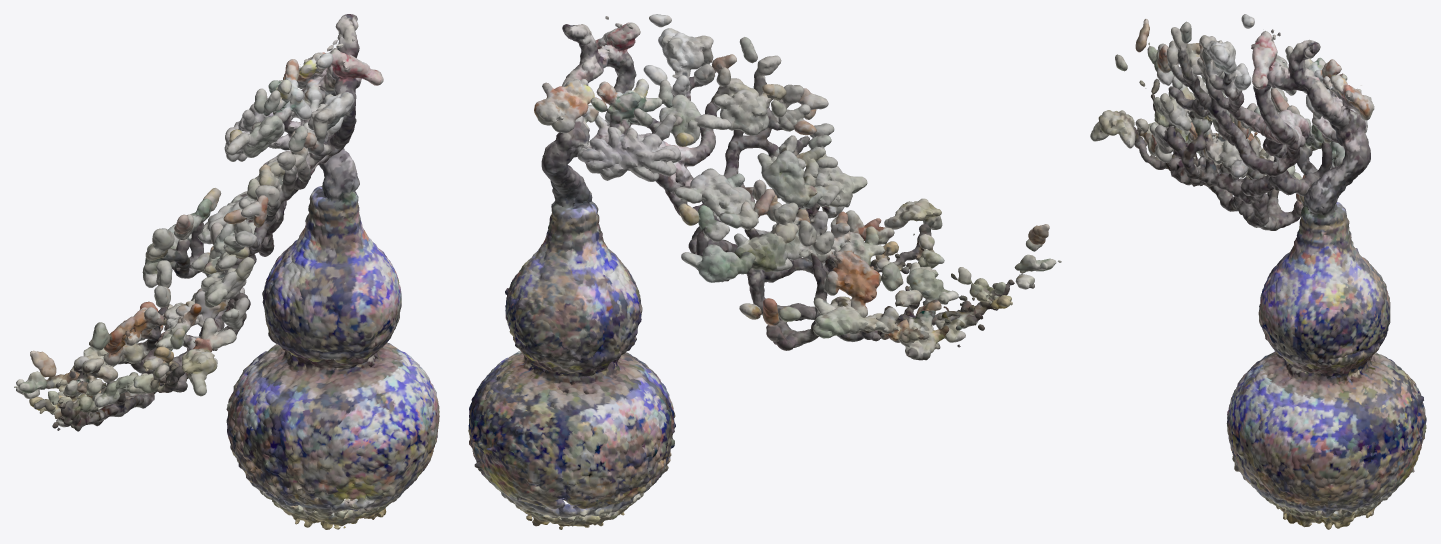
File: ruili1.glb
The picture shows the model from 3 angles, left to right: view 1: azimuth 30°, elevation 25°; view 2: azimuth 150°, elevation 25°; view 3: azimuth 270°, elevation 25°; orthographic projection. The views are drawn at different scales.
Parts seen in each view (by area): view 1: Object_4, Object_7, Object_6, Object_5, Object_8; view 2: Object_7, Object_4, Object_5, Object_6, Object_8; view 3: Object_5, Object_4, Object_7, Object_6, Object_8.
Part boxes in pixels (bbox=[...]): Object_4: bbox=[226, 60, 439, 519]; Object_7: bbox=[14, 49, 432, 512]; Object_6: bbox=[47, 14, 439, 527]; Object_5: bbox=[224, 14, 439, 515]; Object_8: bbox=[83, 22, 437, 529]; Object_7: bbox=[584, 17, 1061, 416]; Object_4: bbox=[468, 78, 674, 525]; Object_5: bbox=[469, 22, 700, 529]; Object_6: bbox=[485, 14, 1014, 526]; Object_8: bbox=[581, 16, 888, 460]; Object_5: bbox=[1228, 31, 1386, 528]; Object_4: bbox=[1226, 58, 1426, 524]; Object_7: bbox=[1090, 18, 1308, 486]; Object_6: bbox=[1153, 14, 1349, 529]; Object_8: bbox=[1258, 29, 1309, 525].
Size of the model in its own units: 0.5291 by 0.4981 by 0.3224.
